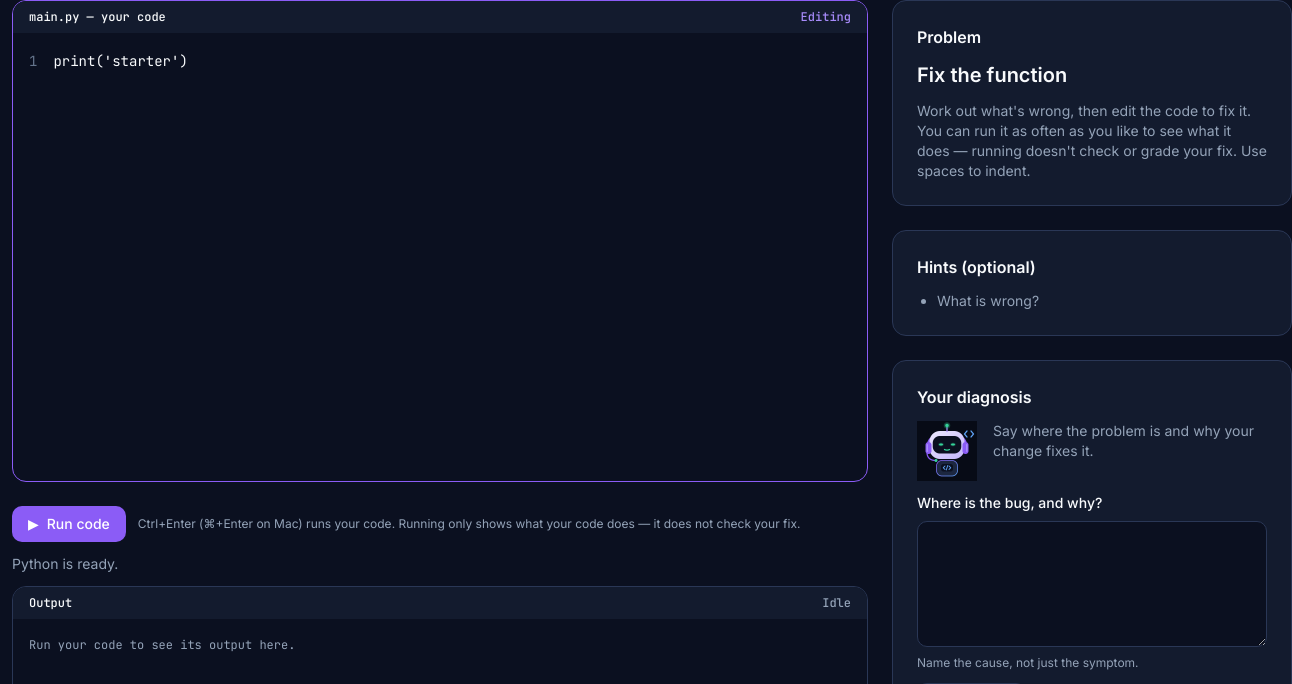
it: Fix stage: running code › supports many sequential runs; each starts with a clean output panel
The image size is (1292, 684).
Click the button "▶ Run code" at (69,524), box [12,506,126,542]
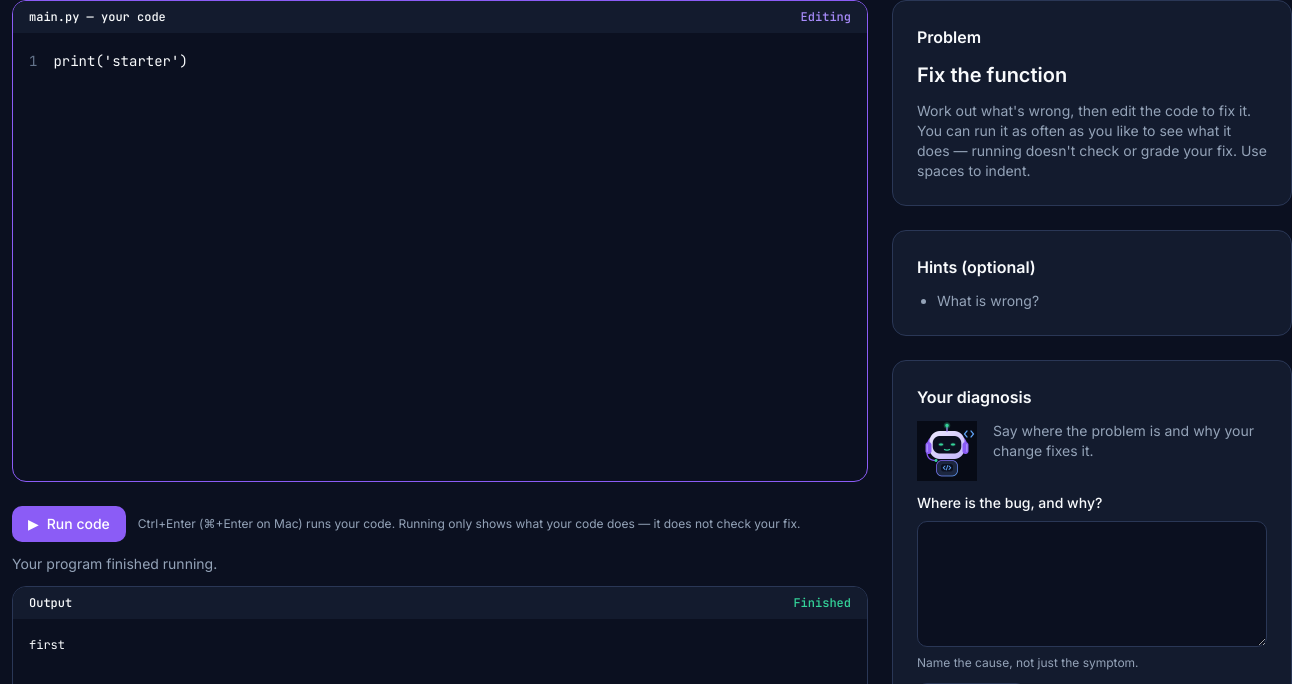
Result: the element with test id "run-output" reads "first" at [29,637,65,653]
Click the button "▶ Run code" at (69,524), box [12,506,126,542]
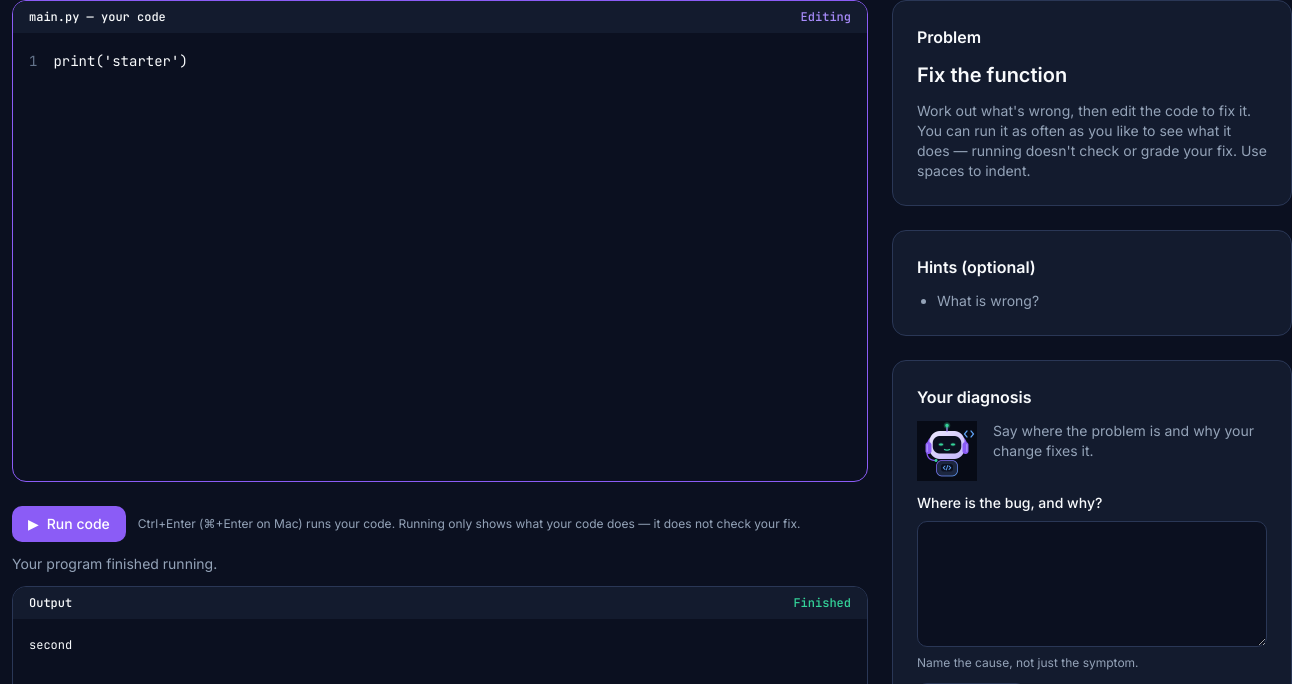
Result: the element with test id "run-output" no longer shows "first" at [29,637,72,653]
Result: the element with test id "run-output" reads "second" at [29,637,72,653]
